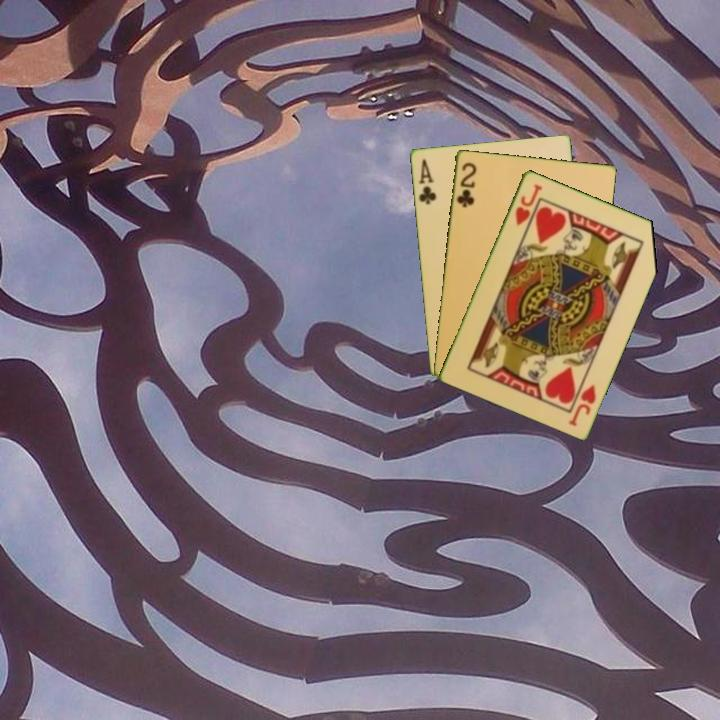2c: (453, 158, 479, 210)
Ac: (415, 155, 439, 207)
Jh: (511, 180, 545, 228), (565, 381, 599, 429)
